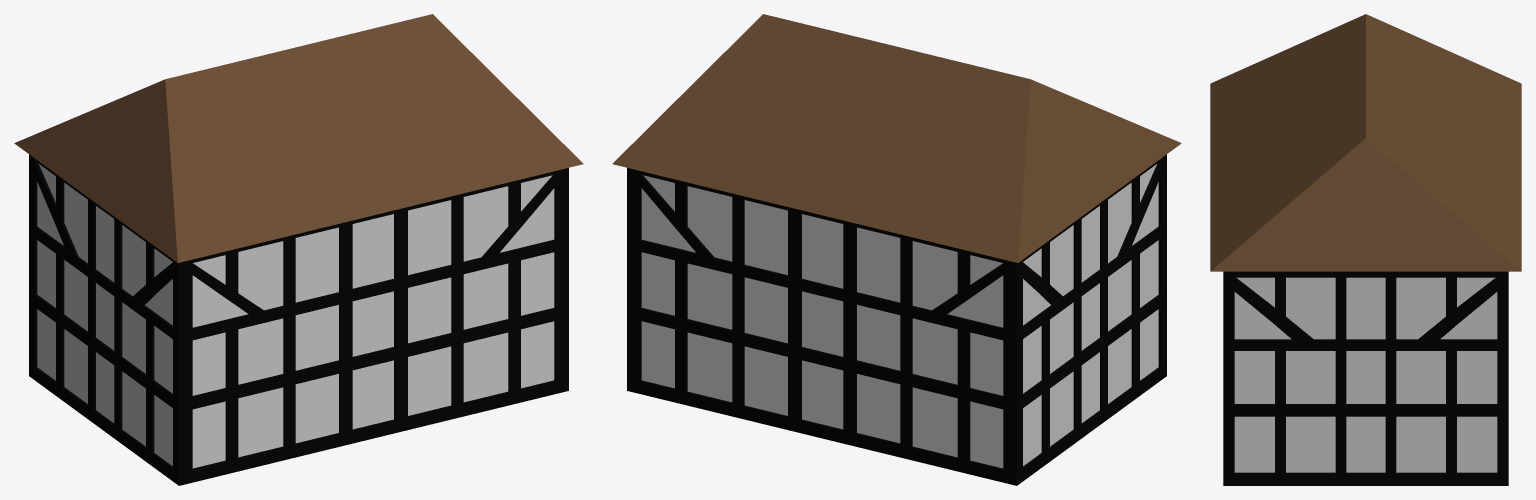
Rendered from 02_res_small_var1.fbx.
3 renders of one model, left to right at view 1: azimuth 30°, elevation 25°; view 2: azimuth 150°, elevation 25°; view 3: azimuth 270°, elevation 25°, orthographic. The views are drawn at different scales.
Visible parts, largest first — view 1: Cube.002; view 2: Cube.002; view 3: Cube.002.
Part boxes in pixels (x1,y1,x2,y2): Cube.002: (14,14,583,485); Cube.002: (612,14,1181,485); Cube.002: (1210,14,1521,485).
Bounding box in the file's own units: 73.25 × 58.07 × 51.19.
